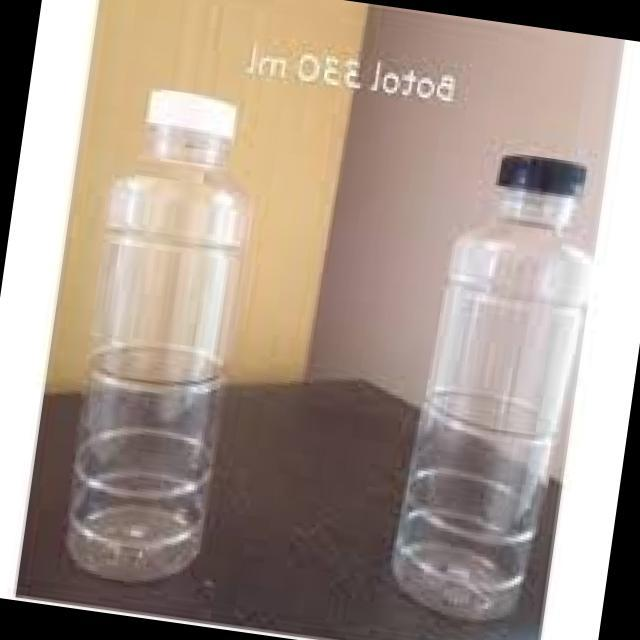good: (32, 66, 298, 604), (354, 114, 612, 640)
